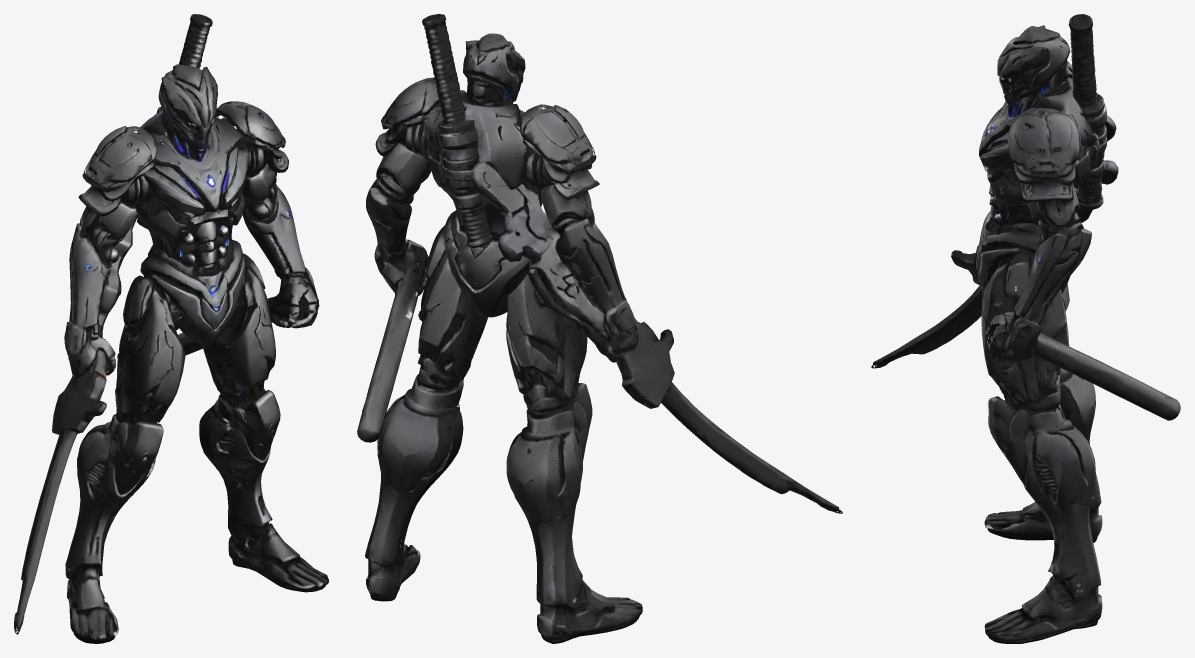
Rendered from character-armored-warrior-001.glb.
3 views of the same model, side by side, from view 1: azimuth 30°, elevation 25°; view 2: azimuth 150°, elevation 25°; view 3: azimuth 270°, elevation 25° (orthographic). The views are drawn at different scales.
Parts seen in each view (by area): view 1: tmpu6m_ywd6obj; view 2: tmpu6m_ywd6obj; view 3: tmpu6m_ywd6obj.
Boxes of the visible parts, box(x1,y1,x2,y2) form: tmpu6m_ywd6obj: box(14, 14, 328, 643); tmpu6m_ywd6obj: box(357, 14, 842, 643); tmpu6m_ywd6obj: box(871, 14, 1180, 643).
Bounding box in the file's own units: 0.6978 × 0.9998 × 0.4805.
Materials: 1 (1 with a texture image).
